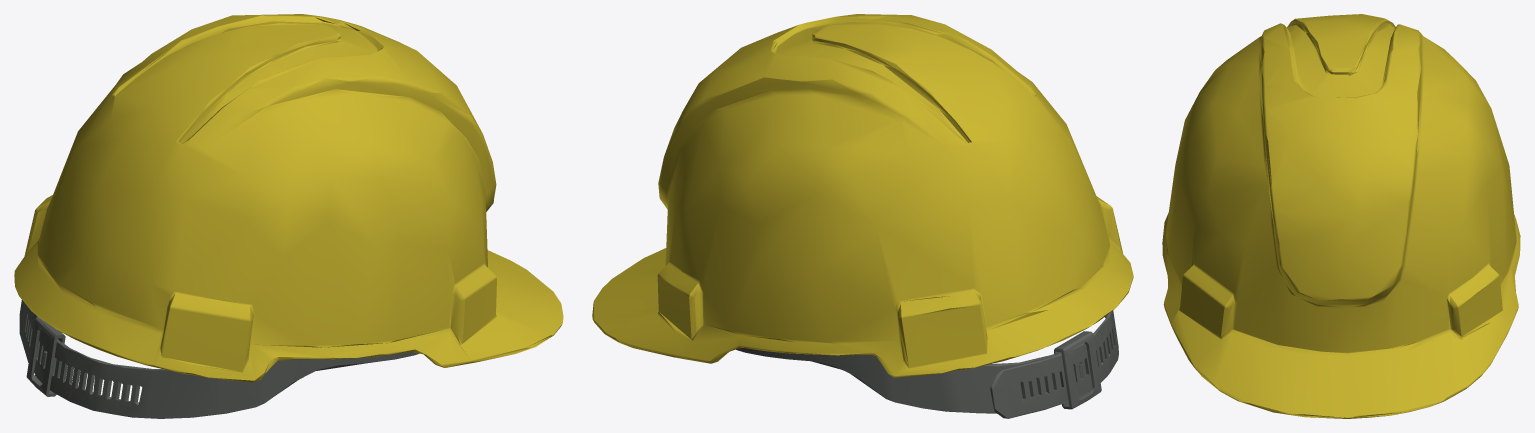
Rendered from p_helmet.glb.
3 views of the same model, side by side, from view 1: azimuth 30°, elevation 25°; view 2: azimuth 150°, elevation 25°; view 3: azimuth 270°, elevation 25° (orthographic). The views are drawn at different scales.
Parts seen in each view (by area): view 1: p_helmet_mesh; view 2: p_helmet_mesh; view 3: p_helmet_mesh.
Part boxes in pixels (box(x1,y1,x2,y2)): p_helmet_mesh: box(14, 14, 563, 418); p_helmet_mesh: box(592, 14, 1133, 418); p_helmet_mesh: box(1162, 14, 1520, 418).
Size of the model in its own units: 0.2894 by 0.1725 by 0.2069.
